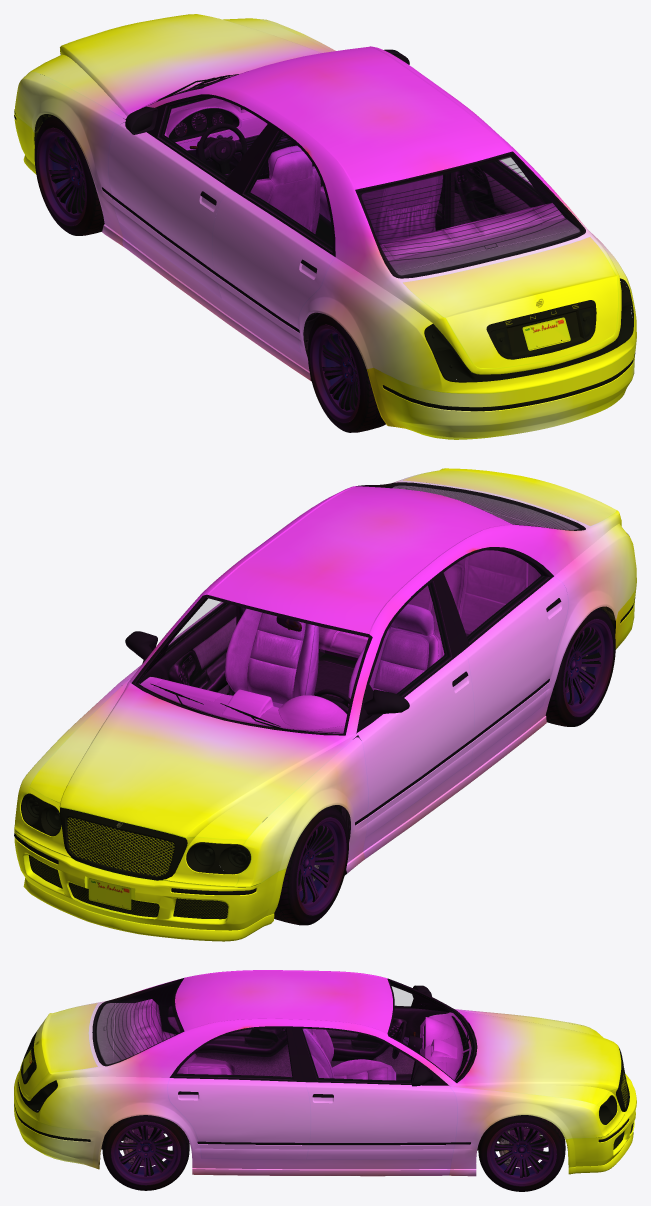
File: cog55.glb
3 renders of one model, top to bottom at view 1: azimuth 30°, elevation 25°; view 2: azimuth 150°, elevation 25°; view 3: azimuth 270°, elevation 25°, orthographic. The views are drawn at different scales.
Visible parts, largest first — view 1: bodyshell, chassis, boot, windscreen_r, bonnet, door_dside_f, door_dside_r, bumper_r, wing_lf, wheel_lr, wheel_lf, window_lf (+4 smaller); view 2: bodyshell, chassis, bonnet, door_dside_f, bumper_f, door_dside_r, wing_lf, wheel_lf, door_pside_f, wheel_lr, window_lr, window_lf (+4 smaller); view 3: bodyshell, door_pside_f, chassis, door_pside_r, bonnet, wing_rf, wheel_rf, wheel_rr, windscreen_r, window_rf, window_rr, boot (+4 smaller).
Boxes of the visible parts, box(x1,y1,x2,y2) form: bodyshell: box(60, 46, 636, 393); chassis: box(42, 74, 632, 380); boot: box(403, 237, 618, 368); windscreen_r: box(358, 154, 582, 276); bonnet: box(30, 14, 330, 119); door_dside_f: box(108, 95, 275, 298); door_dside_r: box(212, 126, 334, 352); bumper_r: box(367, 333, 636, 439); wing_lf: box(14, 71, 125, 247); wheel_lr: box(307, 314, 385, 432); wheel_lf: box(34, 115, 104, 235); window_lf: box(160, 97, 266, 180); bodyshell: box(19, 468, 636, 886); chassis: box(21, 485, 615, 876); bonnet: box(30, 678, 357, 839); door_dside_f: box(356, 574, 474, 837); bumper_f: box(14, 830, 286, 941); door_dside_r: box(439, 547, 568, 761); wing_lf: box(234, 737, 368, 886); wheel_lf: box(274, 806, 348, 925); door_pside_f: box(120, 602, 236, 695); wheel_lr: box(545, 607, 615, 726); window_lr: box(444, 550, 547, 640); window_lf: box(370, 583, 449, 694); bodyshell: box(14, 970, 629, 1176); door_pside_f: box(292, 1027, 457, 1159); chassis: box(30, 980, 627, 1150); door_pside_r: box(167, 1026, 310, 1159); bonnet: box(449, 1009, 621, 1104); wing_rf: box(449, 1087, 610, 1176); wheel_rf: box(478, 1115, 565, 1191); wheel_rr: box(102, 1115, 189, 1190); windscreen_r: box(95, 980, 182, 1065); window_rf: box(302, 1029, 414, 1082); window_rr: box(176, 1028, 292, 1078); boot: box(19, 1003, 97, 1096).
Bounding box in the file's own units: 2.01 × 1.57 × 5.57.
20 materials, 20 textured.
